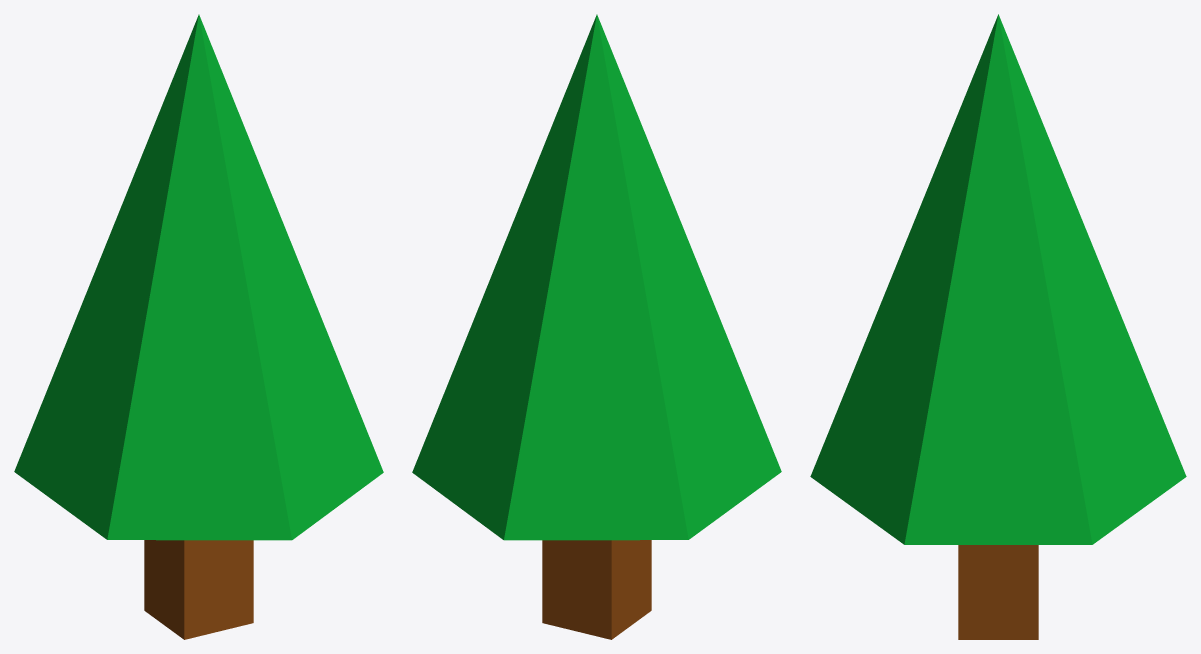
The model's file is tree.dae.
3 renders of one model, left to right at view 1: azimuth 30°, elevation 25°; view 2: azimuth 150°, elevation 25°; view 3: azimuth 270°, elevation 25°, orthographic.
Visible parts, largest first — view 1: a26f33d2-95e6-4f94-8e1b-43b9ea60af05, dfad37f9-1602-43cd-93bc-96b5efe0c366; view 2: a26f33d2-95e6-4f94-8e1b-43b9ea60af05, dfad37f9-1602-43cd-93bc-96b5efe0c366; view 3: a26f33d2-95e6-4f94-8e1b-43b9ea60af05, dfad37f9-1602-43cd-93bc-96b5efe0c366.
Boxes of the visible parts, left/top/right/bottom form: a26f33d2-95e6-4f94-8e1b-43b9ea60af05: left=14, top=14, right=383, bottom=540; dfad37f9-1602-43cd-93bc-96b5efe0c366: left=144, top=540, right=253, bottom=639; a26f33d2-95e6-4f94-8e1b-43b9ea60af05: left=412, top=14, right=781, bottom=540; dfad37f9-1602-43cd-93bc-96b5efe0c366: left=542, top=540, right=651, bottom=639; a26f33d2-95e6-4f94-8e1b-43b9ea60af05: left=810, top=14, right=1186, bottom=544; dfad37f9-1602-43cd-93bc-96b5efe0c366: left=958, top=545, right=1038, bottom=639.
Size of the model in its own units: 12 by 14 by 25.
